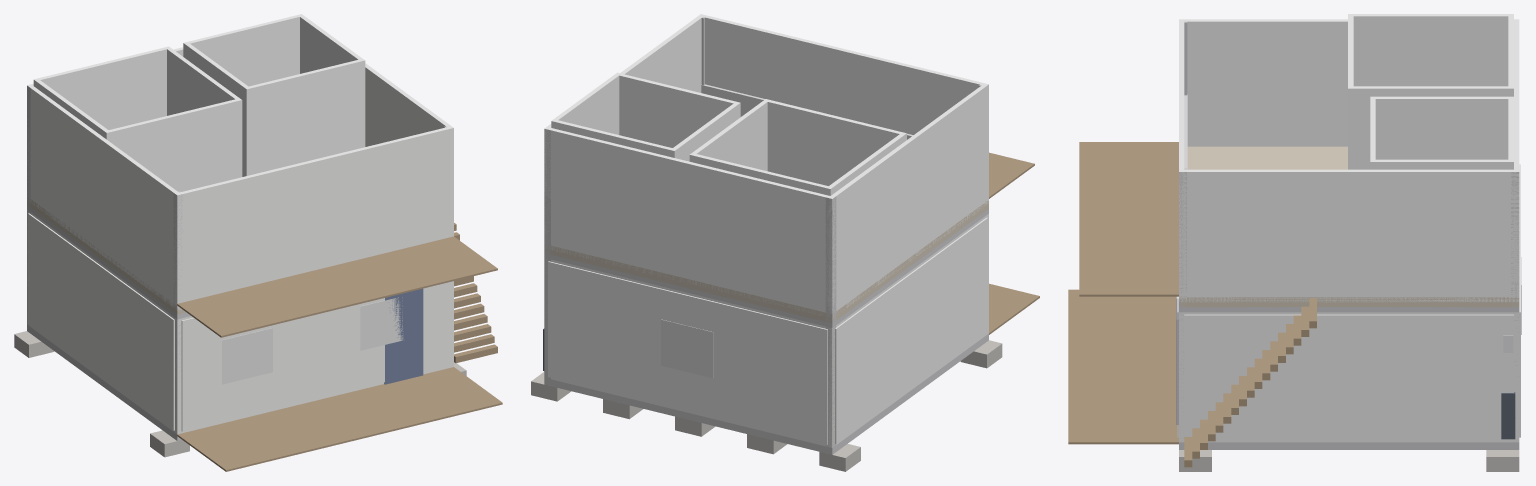
File: Duplex-20-FullSolar+TerraceDeck-LOD1.glb
3 views of the same model, side by side, from view 1: azimuth 30°, elevation 25°; view 2: azimuth 150°, elevation 25°; view 3: azimuth 270°, elevation 25° (orthographic). The views are drawn at different scales.
Visible parts, largest first — view 1: ExteriorShellUpper, ExteriorPanelsStandard, StudyUpper, BedroomUpper, BalconyUpper, TerraceDeck, WindowsStandard, BalconyGround, EntryDoor, StaircaseExternal, ExteriorShell, FoundationBlocks (+4 smaller); view 2: ExteriorShellUpper, ExteriorPanelsStandard, BedroomUpper, StudyUpper, FloorUpper, VerticalStructure, FoundationBlocks, BaseFrame, ExteriorShell, WindowsStandard, TopFrame, BalconyUpper (+3 smaller); view 3: ExteriorShellUpper, ExteriorPanelsStandard, TerraceDeck, BalconyUpper, BedroomUpper, StudyUpper, FloorUpper, BalconyGround, StaircaseExternal, ExteriorShell, BaseFrame, TopFrame (+3 smaller).
Part boxes in pixels (<box>): ExteriorShellUpper: <box>27,47,453,309</box>; ExteriorPanelsStandard: <box>28,213,450,431</box>; StudyUpper: <box>183,14,365,176</box>; BedroomUpper: <box>33,46,242,191</box>; BalconyUpper: <box>177,236,497,337</box>; TerraceDeck: <box>177,367,502,471</box>; WindowsStandard: <box>222,297,403,384</box>; BalconyGround: <box>177,367,490,459</box>; EntryDoor: <box>384,288,423,384</box>; StaircaseExternal: <box>454,223,497,363</box>; ExteriorShell: <box>27,209,453,434</box>; FoundationBlocks: <box>14,331,466,457</box>; ExteriorShellUpper: <box>544,14,988,318</box>; ExteriorPanelsStandard: <box>548,217,987,444</box>; BedroomUpper: <box>689,99,906,195</box>; StudyUpper: <box>551,72,740,161</box>; FloorUpper: <box>544,201,988,323</box>; VerticalStructure: <box>544,17,981,447</box>; FoundationBlocks: <box>531,340,1002,471</box>; BaseFrame: <box>544,333,988,454</box>; ExteriorShell: <box>545,214,988,447</box>; WindowsStandard: <box>661,319,713,378</box>; TopFrame: <box>544,209,988,327</box>; BalconyUpper: <box>989,152,1034,198</box>; ExteriorShellUpper: <box>1179,19,1519,302</box>; ExteriorPanelsStandard: <box>1177,164,1520,440</box>; TerraceDeck: <box>1068,289,1178,444</box>; BalconyUpper: <box>1079,142,1178,296</box>; BedroomUpper: <box>1348,14,1513,169</box>; StudyUpper: <box>1370,96,1513,169</box>; FloorUpper: <box>1179,146,1519,307</box>; BalconyGround: <box>1096,296,1178,444</box>; StaircaseExternal: <box>1184,298,1316,467</box>; ExteriorShell: <box>1179,312,1519,442</box>; BaseFrame: <box>1179,442,1519,449</box>; TopFrame: <box>1179,307,1518,312</box>.
Size of the model in its own units: 7.94 by 6 by 8.2.
